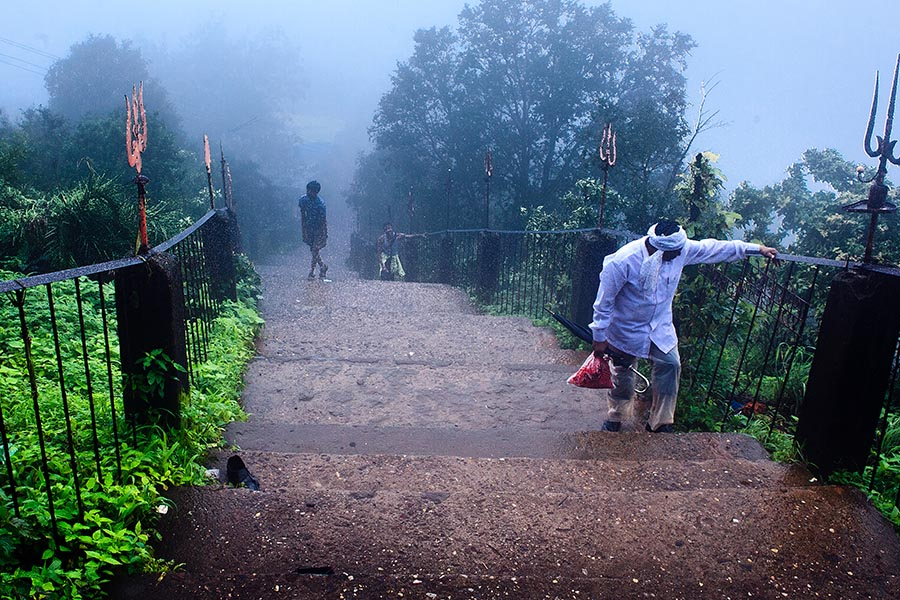person: (649, 220, 692, 270), (303, 180, 325, 206), (380, 222, 397, 241)
